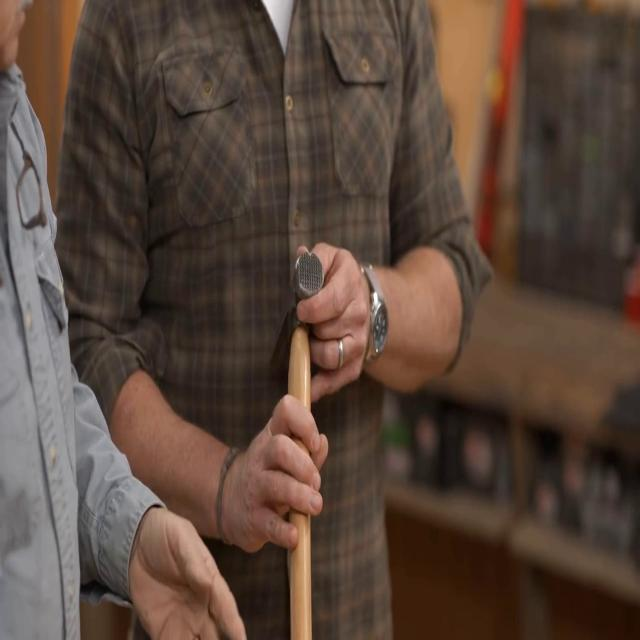hammer: (265, 250, 324, 640)
